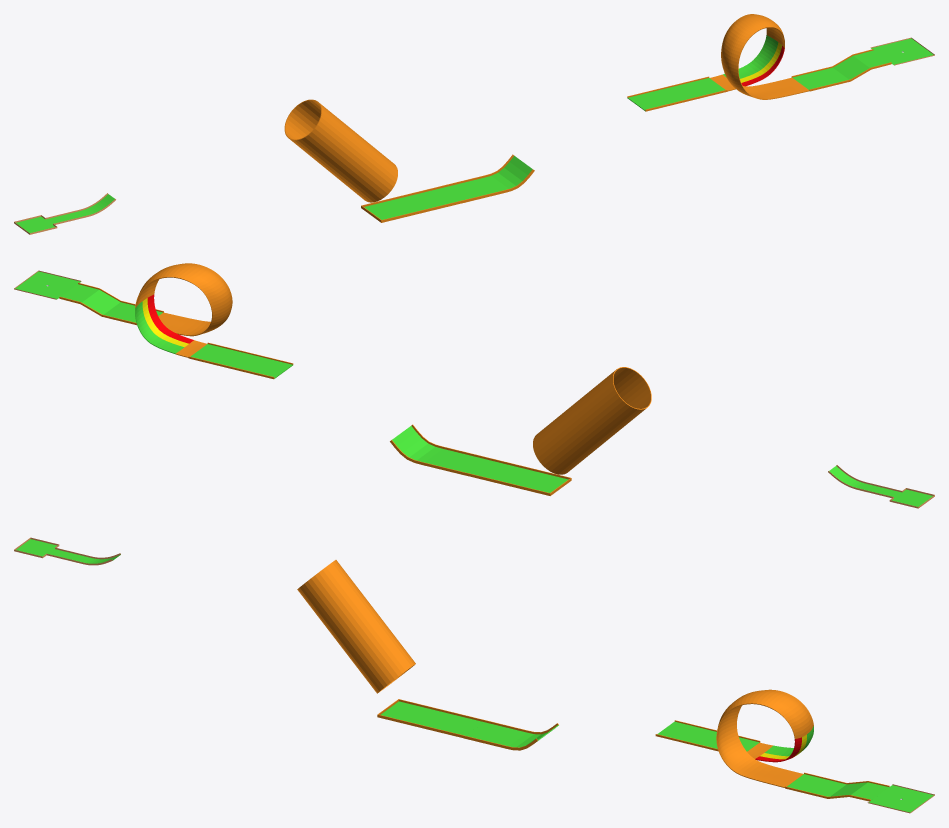
Rendered from m-golf-holes-004.glb.
3 views of the same model, one above another, from view 1: azimuth 30°, elevation 25°; view 2: azimuth 150°, elevation 25°; view 3: azimuth 330°, elevation 25° (orthographic). The views are drawn at different scales.
Parts seen in each view (by area): view 1: 4_Tunnel_Polar_Spring_Visual, 4_Loop_Visual, 4_Track2_Visual, 4_TZunnel_Visual, 4_Post_Loop_Visual, 4_Pre_Loop_Visual, 4_Hole_Visual, 4_Track1_Visual, 4_Start_Visual; view 2: 4_Tunnel_Polar_Spring_Visual, 4_Loop_Visual, 4_Track2_Visual, 4_TZunnel_Visual, 4_Pre_Loop_Visual, 4_Post_Loop_Visual, 4_Hole_Visual, 4_Track1_Visual, 4_Start_Visual; view 3: 4_Tunnel_Polar_Spring_Visual, 4_Loop_Visual, 4_TZunnel_Visual, 4_Post_Loop_Visual, 4_Track2_Visual, 4_Pre_Loop_Visual, 4_Hole_Visual, 4_Track1_Visual.
Part boxes in pixels (x1,y1,x2,y2): 4_Tunnel_Polar_Spring_Visual: (284,99,397,202); 4_Loop_Visual: (710,14,809,99); 4_Track2_Visual: (443,154,534,202); 4_TZunnel_Visual: (361,185,463,222); 4_Post_Loop_Visual: (791,49,891,91); 4_Pre_Loop_Visual: (627,76,727,111); 4_Hole_Visual: (870,37,934,65); 4_Track1_Visual: (45,193,115,224); 4_Start_Visual: (14,215,57,234); 4_Tunnel_Polar_Spring_Visual: (533,367,651,474); 4_Loop_Visual: (135,263,232,357); 4_Track2_Visual: (390,424,485,474); 4_TZunnel_Visual: (464,457,571,495); 4_Pre_Loop_Visual: (188,342,293,379); 4_Post_Loop_Visual: (59,282,163,325); 4_Hole_Visual: (14,270,81,299); 4_Track1_Visual: (828,465,902,498); 4_Start_Visual: (889,488,934,508); 4_Tunnel_Polar_Spring_Visual: (297,560,415,693); 4_Loop_Visual: (716,689,813,787); 4_TZunnel_Visual: (377,699,484,737); 4_Post_Loop_Visual: (785,772,889,801); 4_Track2_Visual: (463,720,558,750); 4_Pre_Loop_Visual: (655,720,760,751); 4_Hole_Visual: (867,784,934,813); 4_Track1_Visual: (46,547,120,565).
Size of what is drawn, in the model's own units: 130 by 17.9 by 11.25.
